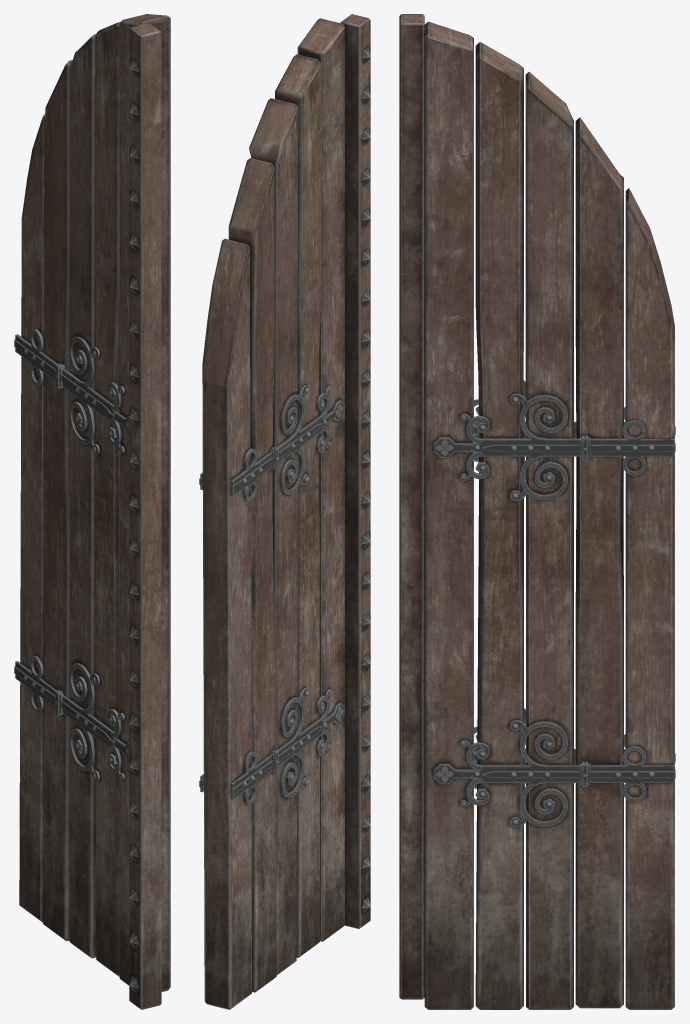
Rendered from SM_ChurchDoor.fbx.
3 renders of one model, left to right at view 1: azimuth 30°, elevation 25°; view 2: azimuth 150°, elevation 25°; view 3: azimuth 270°, elevation 25°, orthographic. The views are drawn at different scales.
Visible parts, largest first — view 1: SM_ChurchDoor_LOD0; view 2: SM_ChurchDoor_LOD0; view 3: SM_ChurchDoor_LOD0.
Part boxes in pixels (x1,y1,x2,y2): SM_ChurchDoor_LOD0: [14, 14, 170, 1009]; SM_ChurchDoor_LOD0: [199, 14, 370, 1009]; SM_ChurchDoor_LOD0: [399, 14, 675, 1009].
Size of the model in its own units: 15.26 by 64.39 by 251.
1 material, 1 textured.
